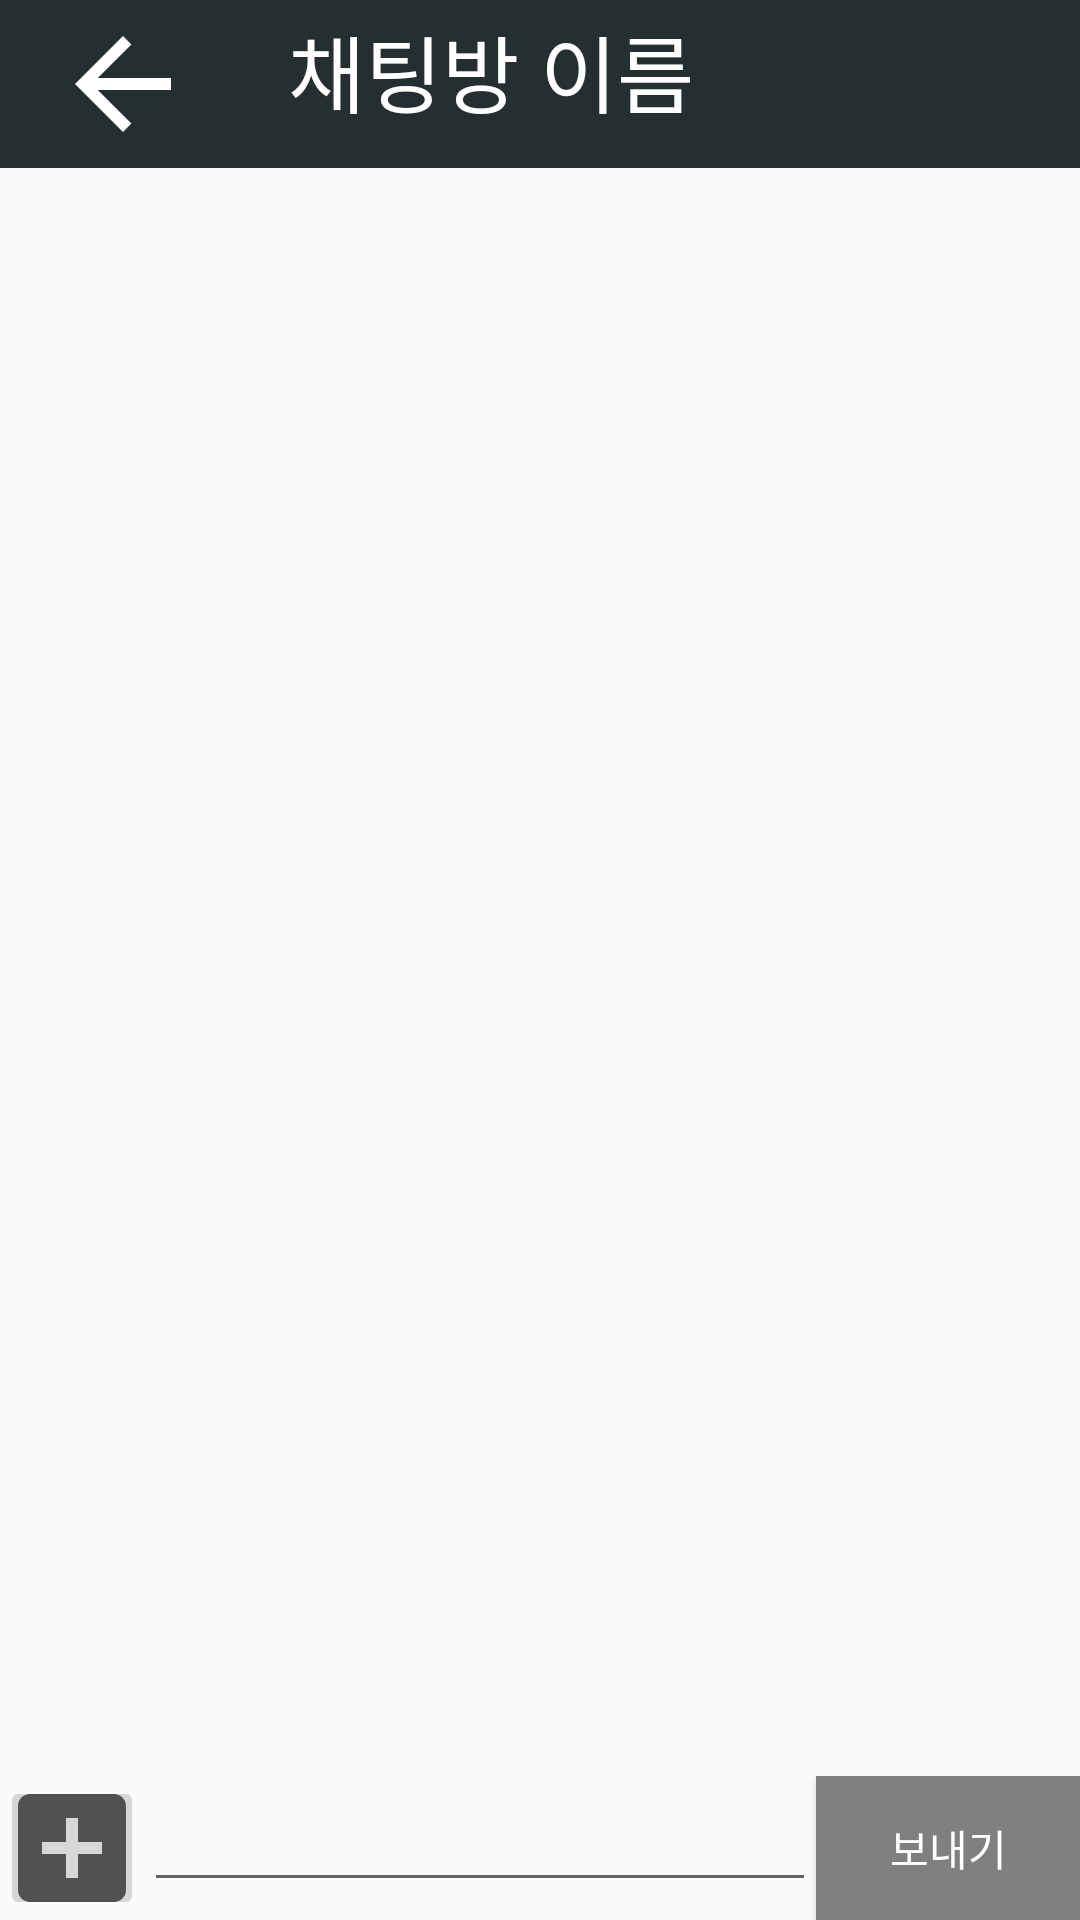

Icons on this 1080 x 1920 Android screen, each with its box as (x1, y1, x2, y2):
add box: (12, 1794, 132, 1902)
back toolbar: (75, 36, 171, 132)
